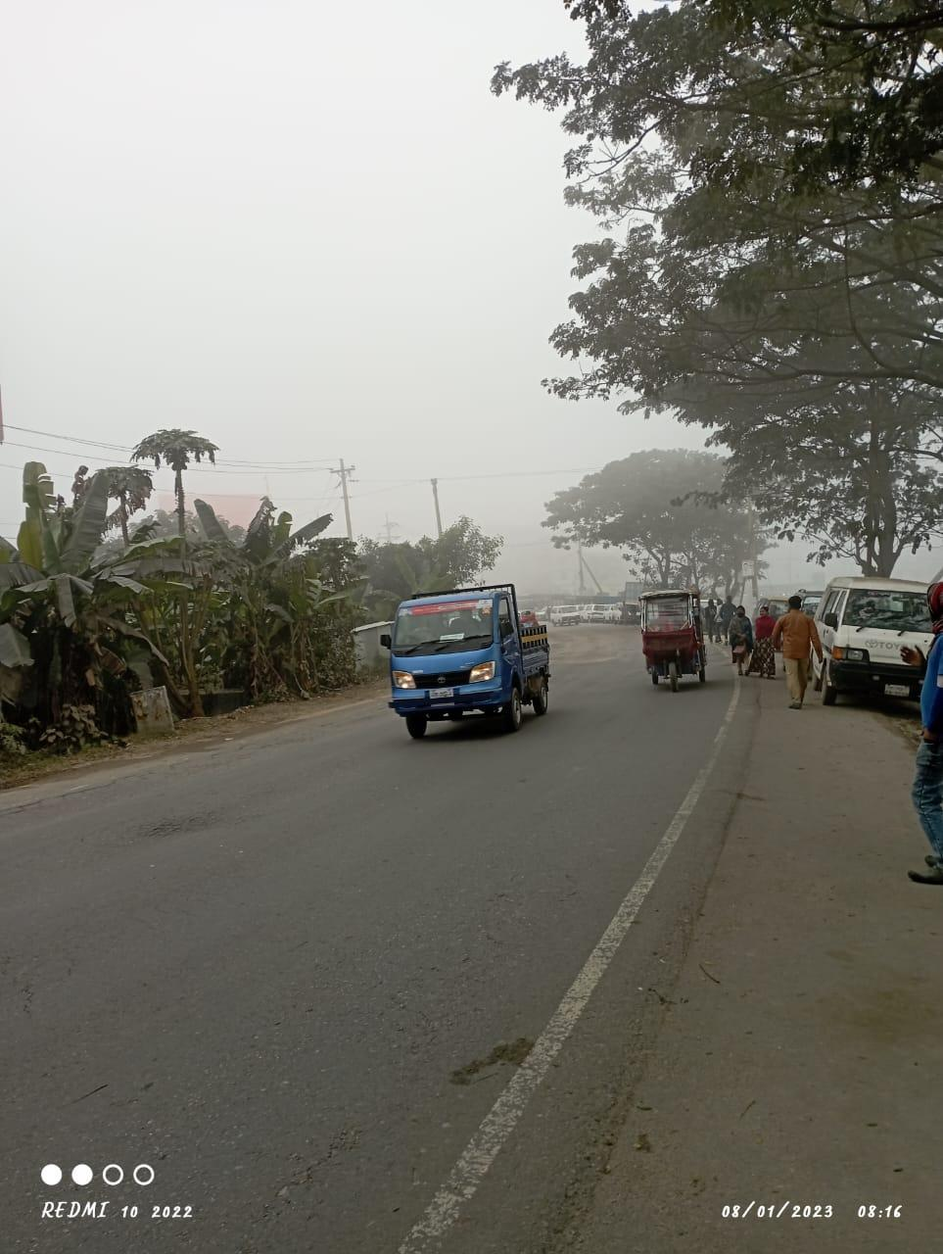Car: (812, 568, 940, 709), (636, 588, 718, 697), (546, 601, 588, 628)
Truck: (385, 577, 561, 733)
